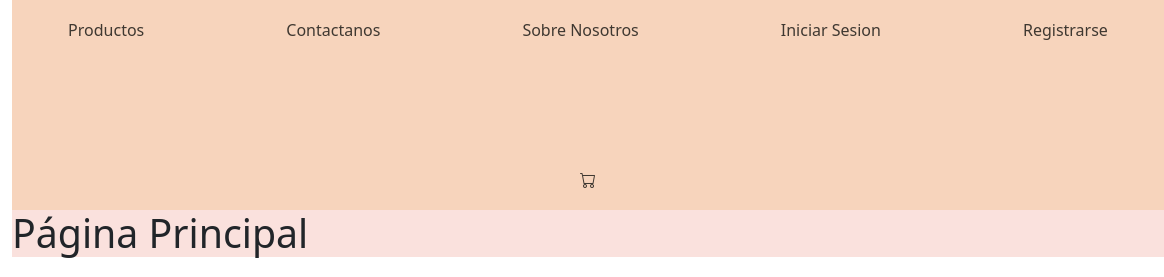
Test case: Nav.jsx › navega a la página de Productos al hacer click en el link
Expected: the heading "Página Principal" is shown, [12,206,308,260]
Click the link "Productos" at (106, 30), box [68,19,144,41]
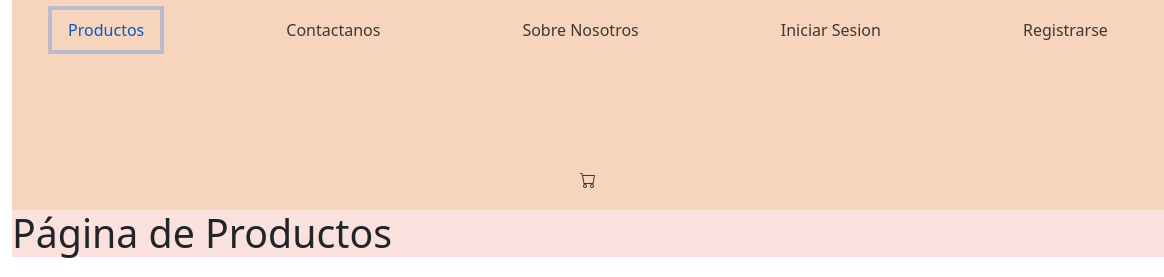
Expected: the heading "Página de Productos" is shown, [12,206,392,260]
